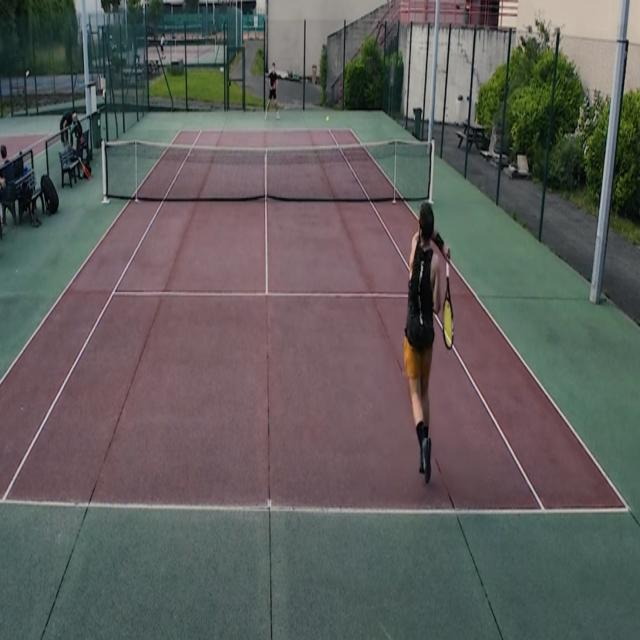ball: (326, 115, 330, 124)
